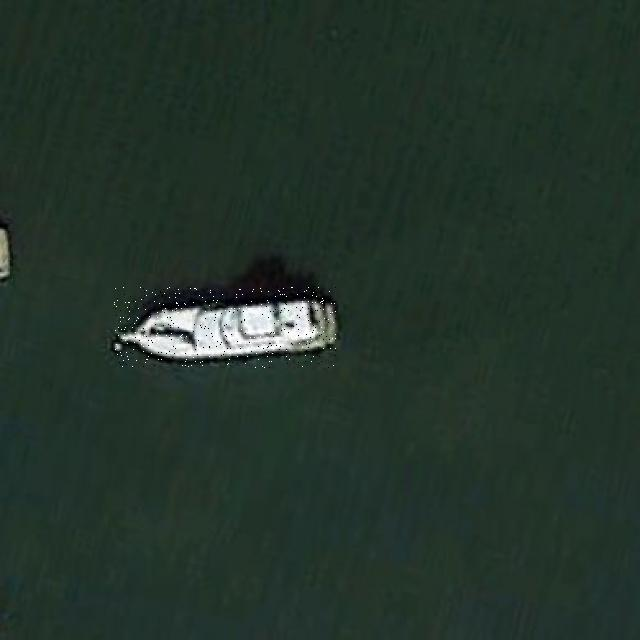boat: (114, 287, 336, 368)
